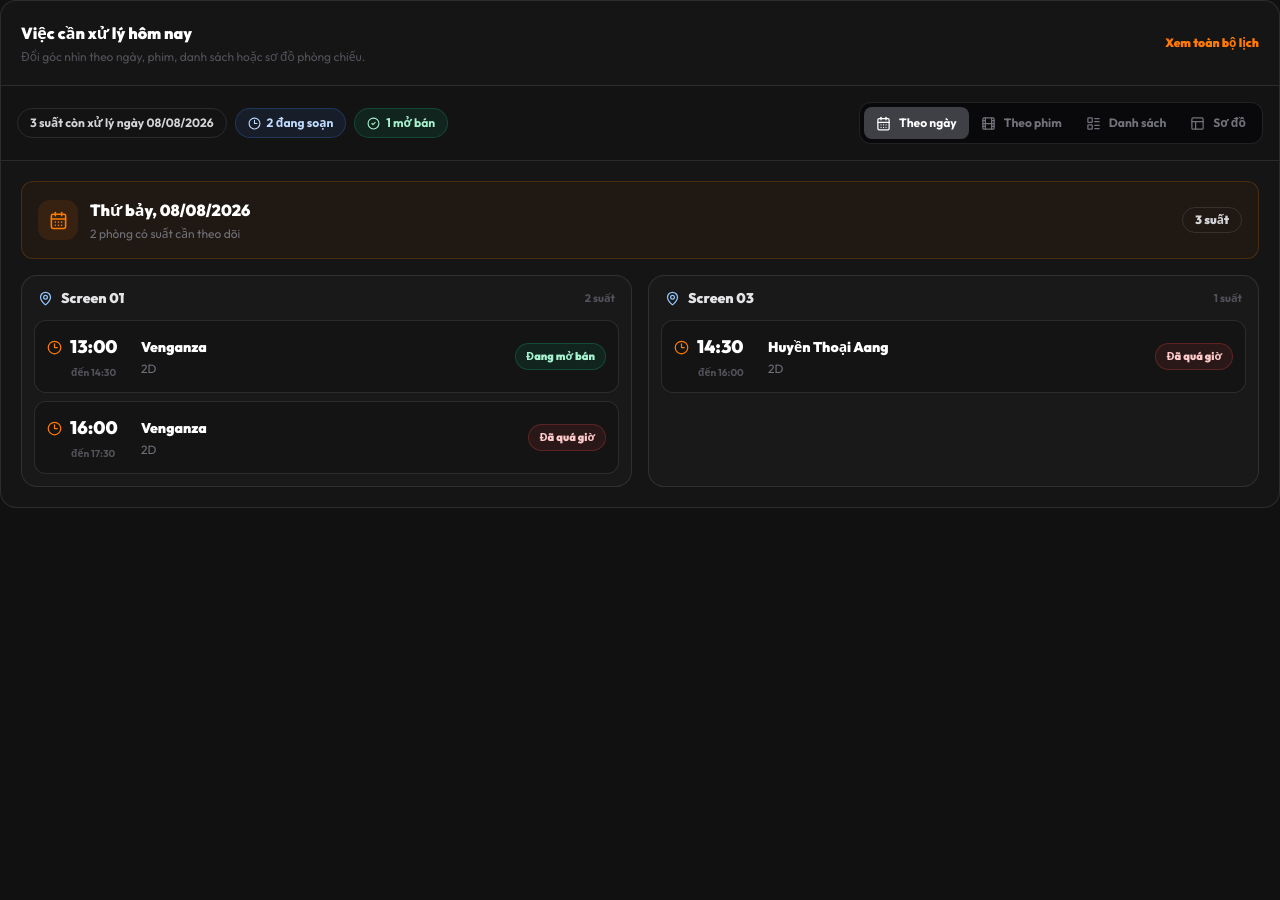
ManagerTodayShowtimeViews › switches between day, movie, list, and read-only timeline views
The image size is (1280, 900).
Check: the element named "Chế độ xem việc cần xử lý hôm nay" shows "Theo ngày", box [864,107,969,139]
Check: the element named "Chế độ xem việc cần xử lý hôm nay" shows "Danh sách", box [1074,107,1178,139]
Click the button "Theo phim" at coordinates (1021, 123), box [969,107,1074,139]
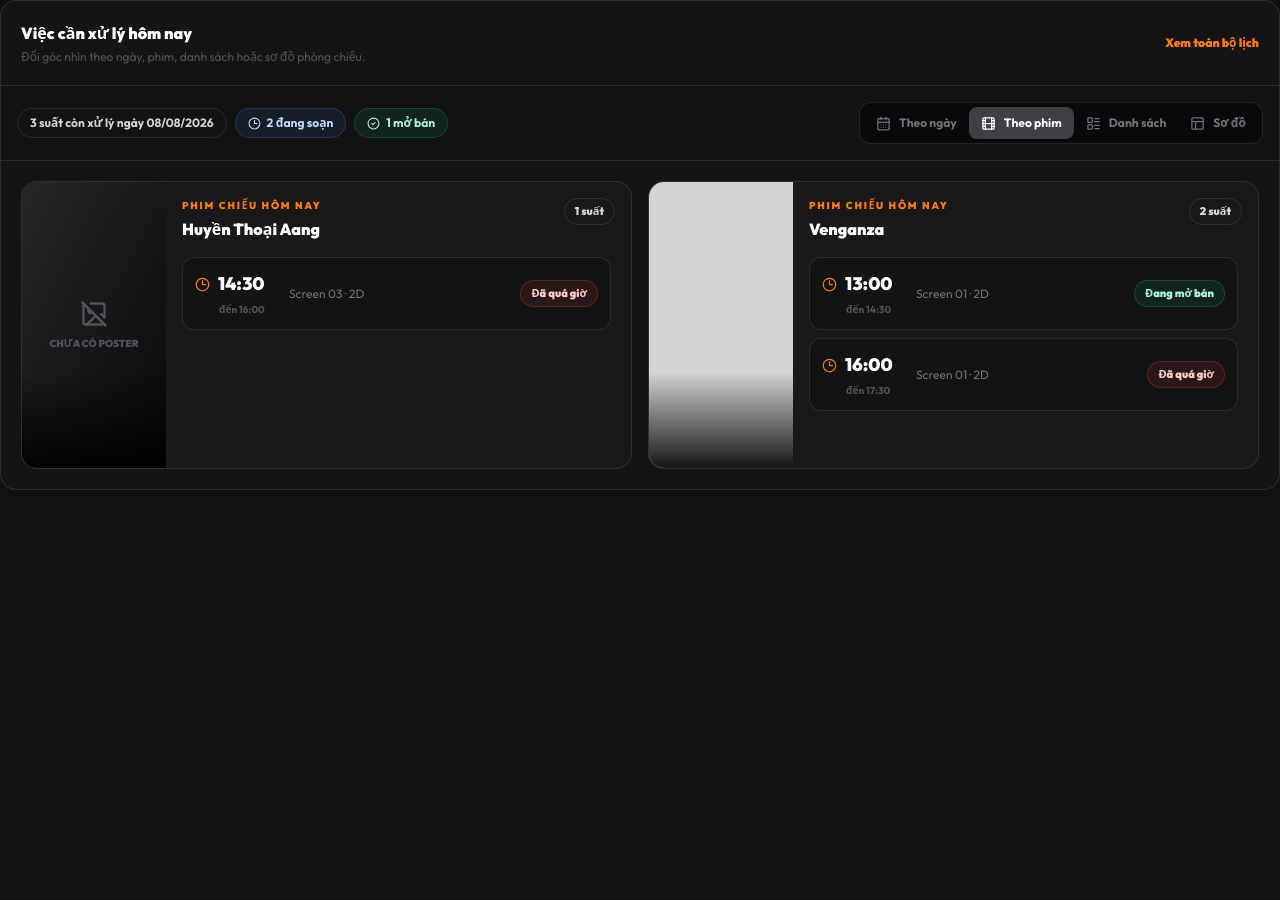
Check: the text "3 suất còn xử lý ngày 08/08/2026" is shown, box [17,108,227,138]
Check: the element named "Lịch cần xử lý theo phim" is shown, box [1,161,1279,489]
Click the button "Danh sách" at coordinates (1126, 123), box [1074,107,1178,139]
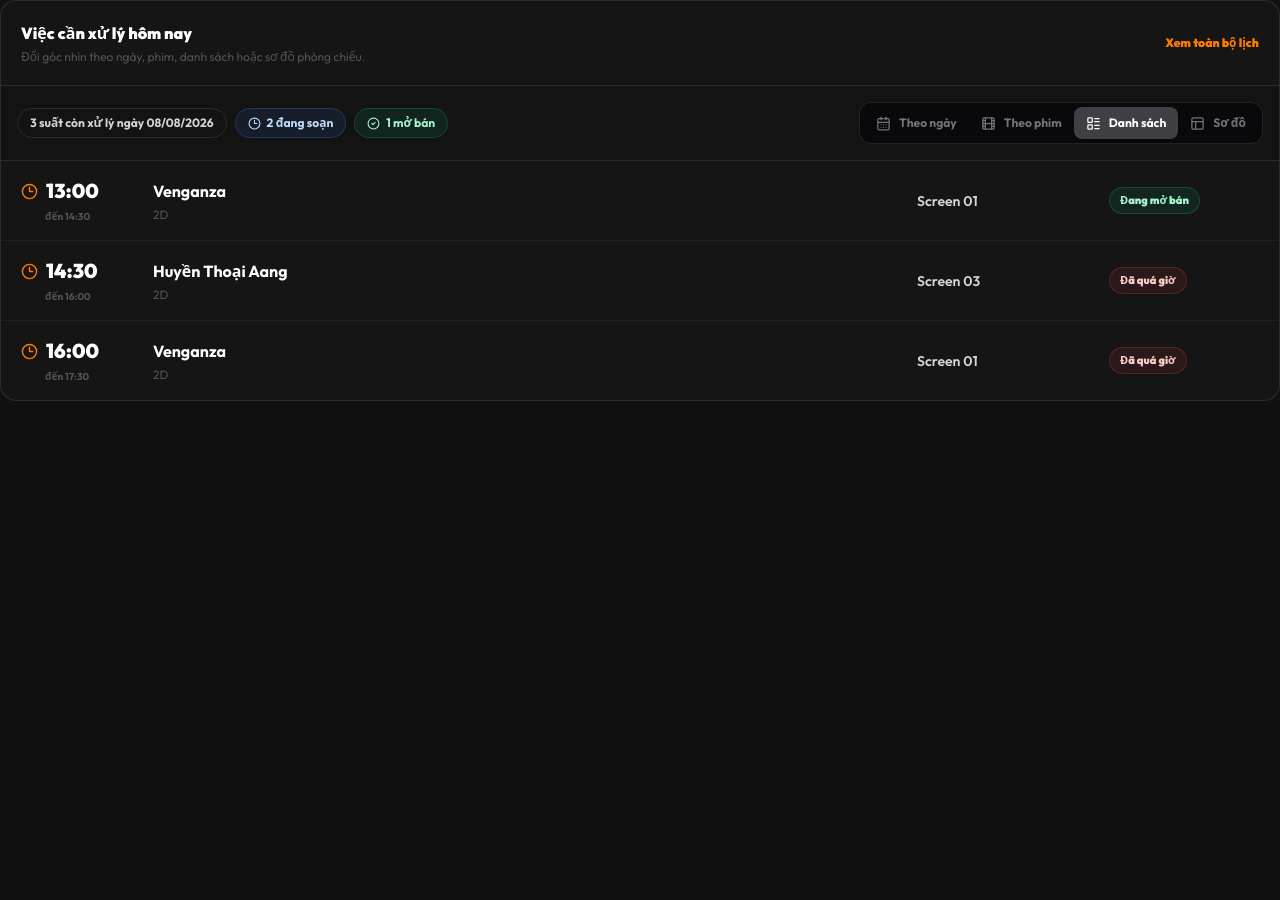
Check: the element named "Danh sách suất cần xử lý" is shown, box [1,161,1279,400]
Click the button "Sơ đồ" at coordinates (1218, 123), box [1178,107,1258,139]
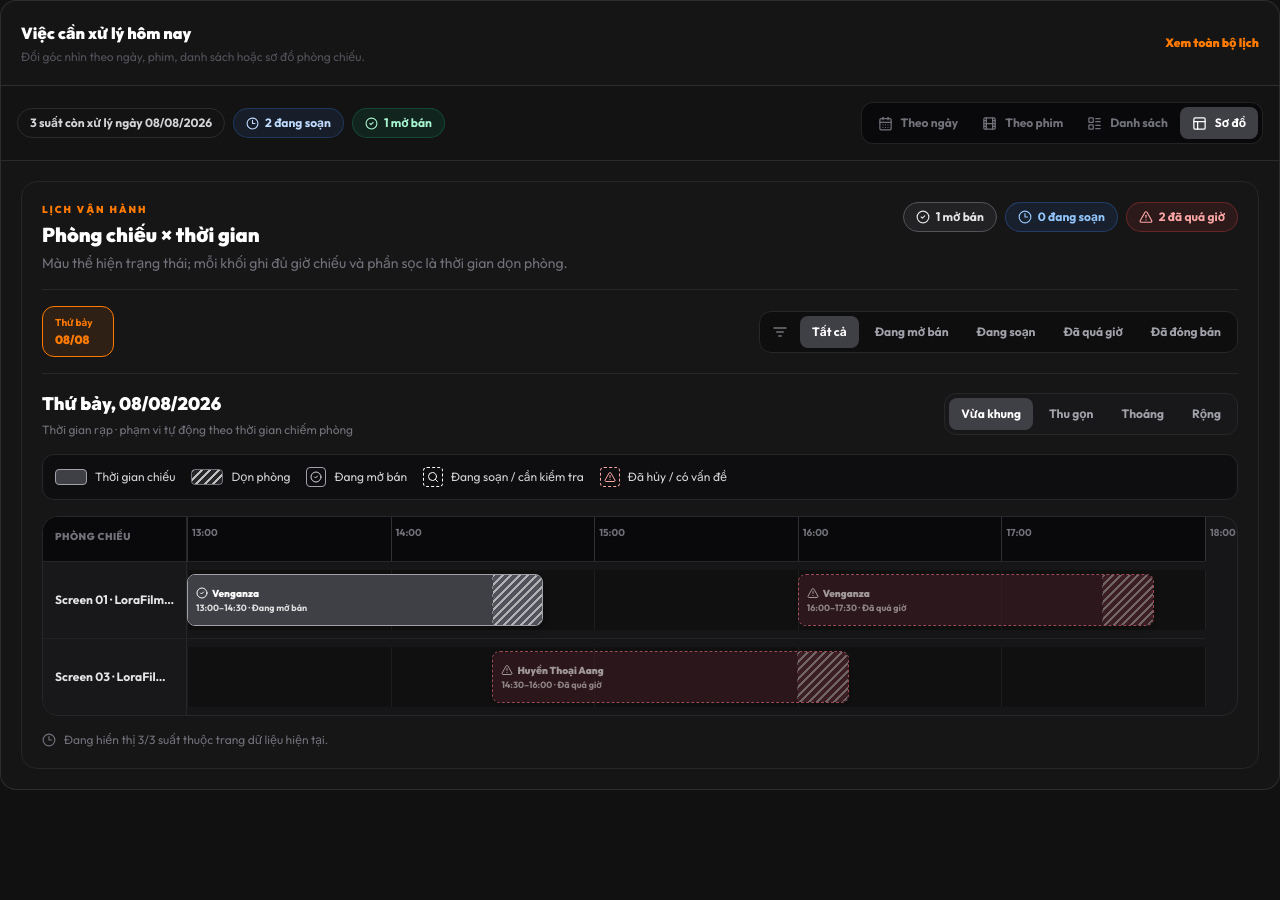
Check: the element "Phòng chiếu × thời gian" is shown
Check: the picture named "Venganza, 13:00 đến 14:30, Đang mở bán" is shown, box [187,574,543,626]
